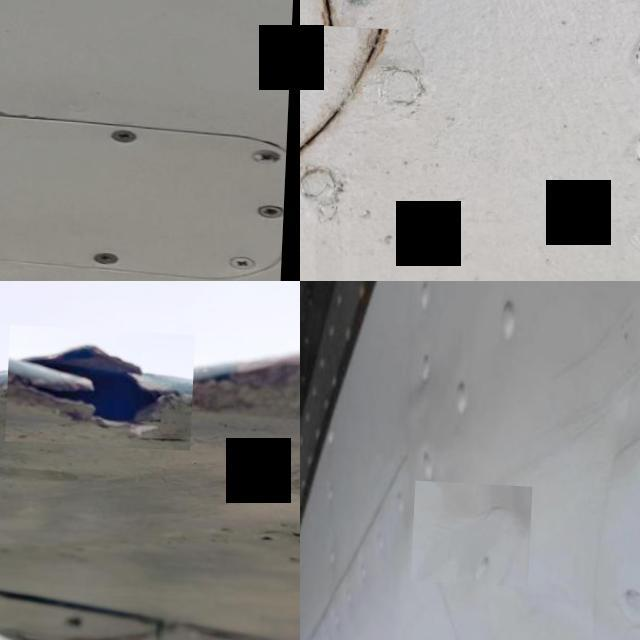Crack: (8, 322, 196, 447)
Dent: (415, 482, 535, 579), (575, 368, 640, 465)
Missing_Fastener: (314, 0, 405, 25), (300, 80, 317, 164)
